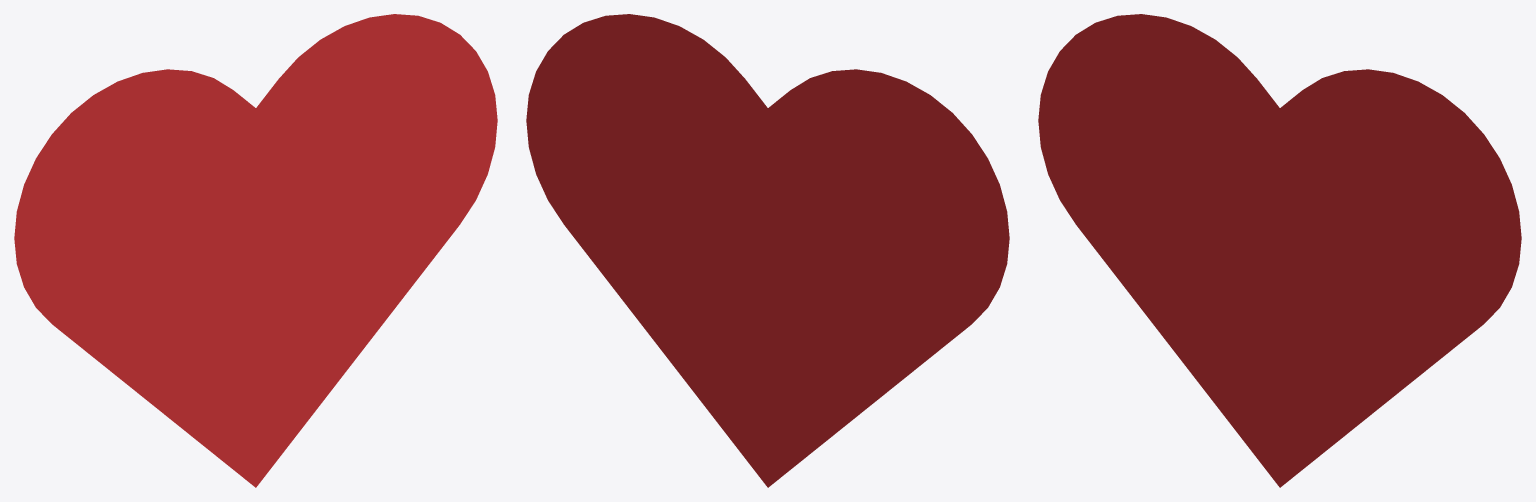
The model's file is hr_monitor_hud.fbx.
3 views of the same model, side by side, from view 1: azimuth 30°, elevation 25°; view 2: azimuth 150°, elevation 25°; view 3: azimuth 330°, elevation 25° (orthographic).
Visible parts, largest first — view 1: heartrate_monitor.260; view 2: heartrate_monitor.260; view 3: heartrate_monitor.260.
Part boxes in pixels (x1,y1,x2,y2): heartrate_monitor.260: (14,14,497,487); heartrate_monitor.260: (526,14,1009,487); heartrate_monitor.260: (1038,14,1521,487).
Size of the model in its own units: 4.9 by 4.29 by 7.85e-07.
